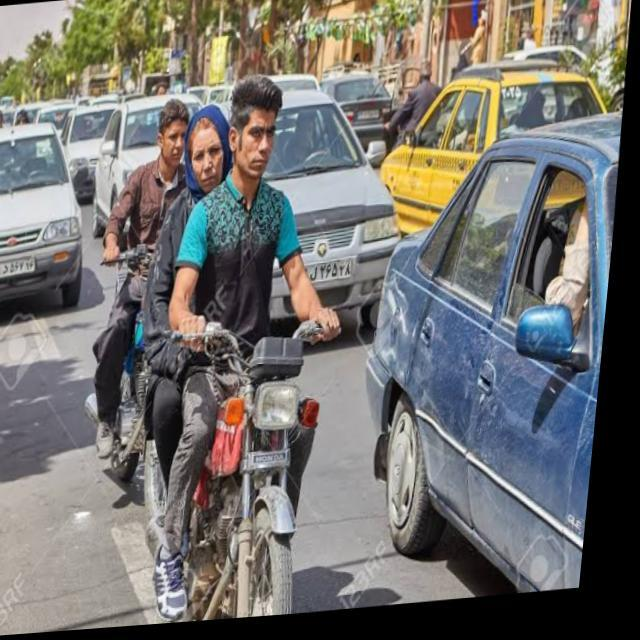Nonhelmet: (225, 72, 286, 188), (178, 101, 235, 195), (152, 95, 196, 167)
